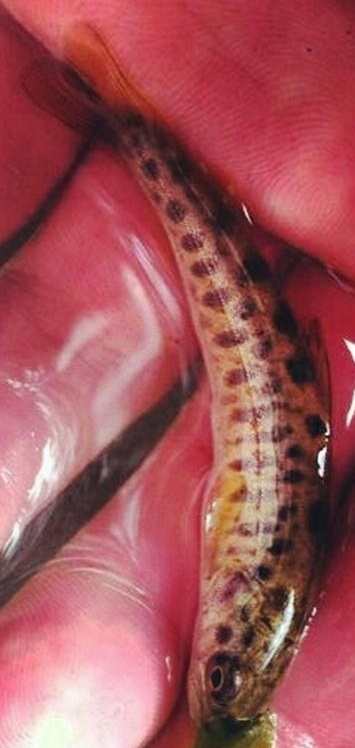Salmo trutta subsp. fario: (20, 20, 335, 728)
